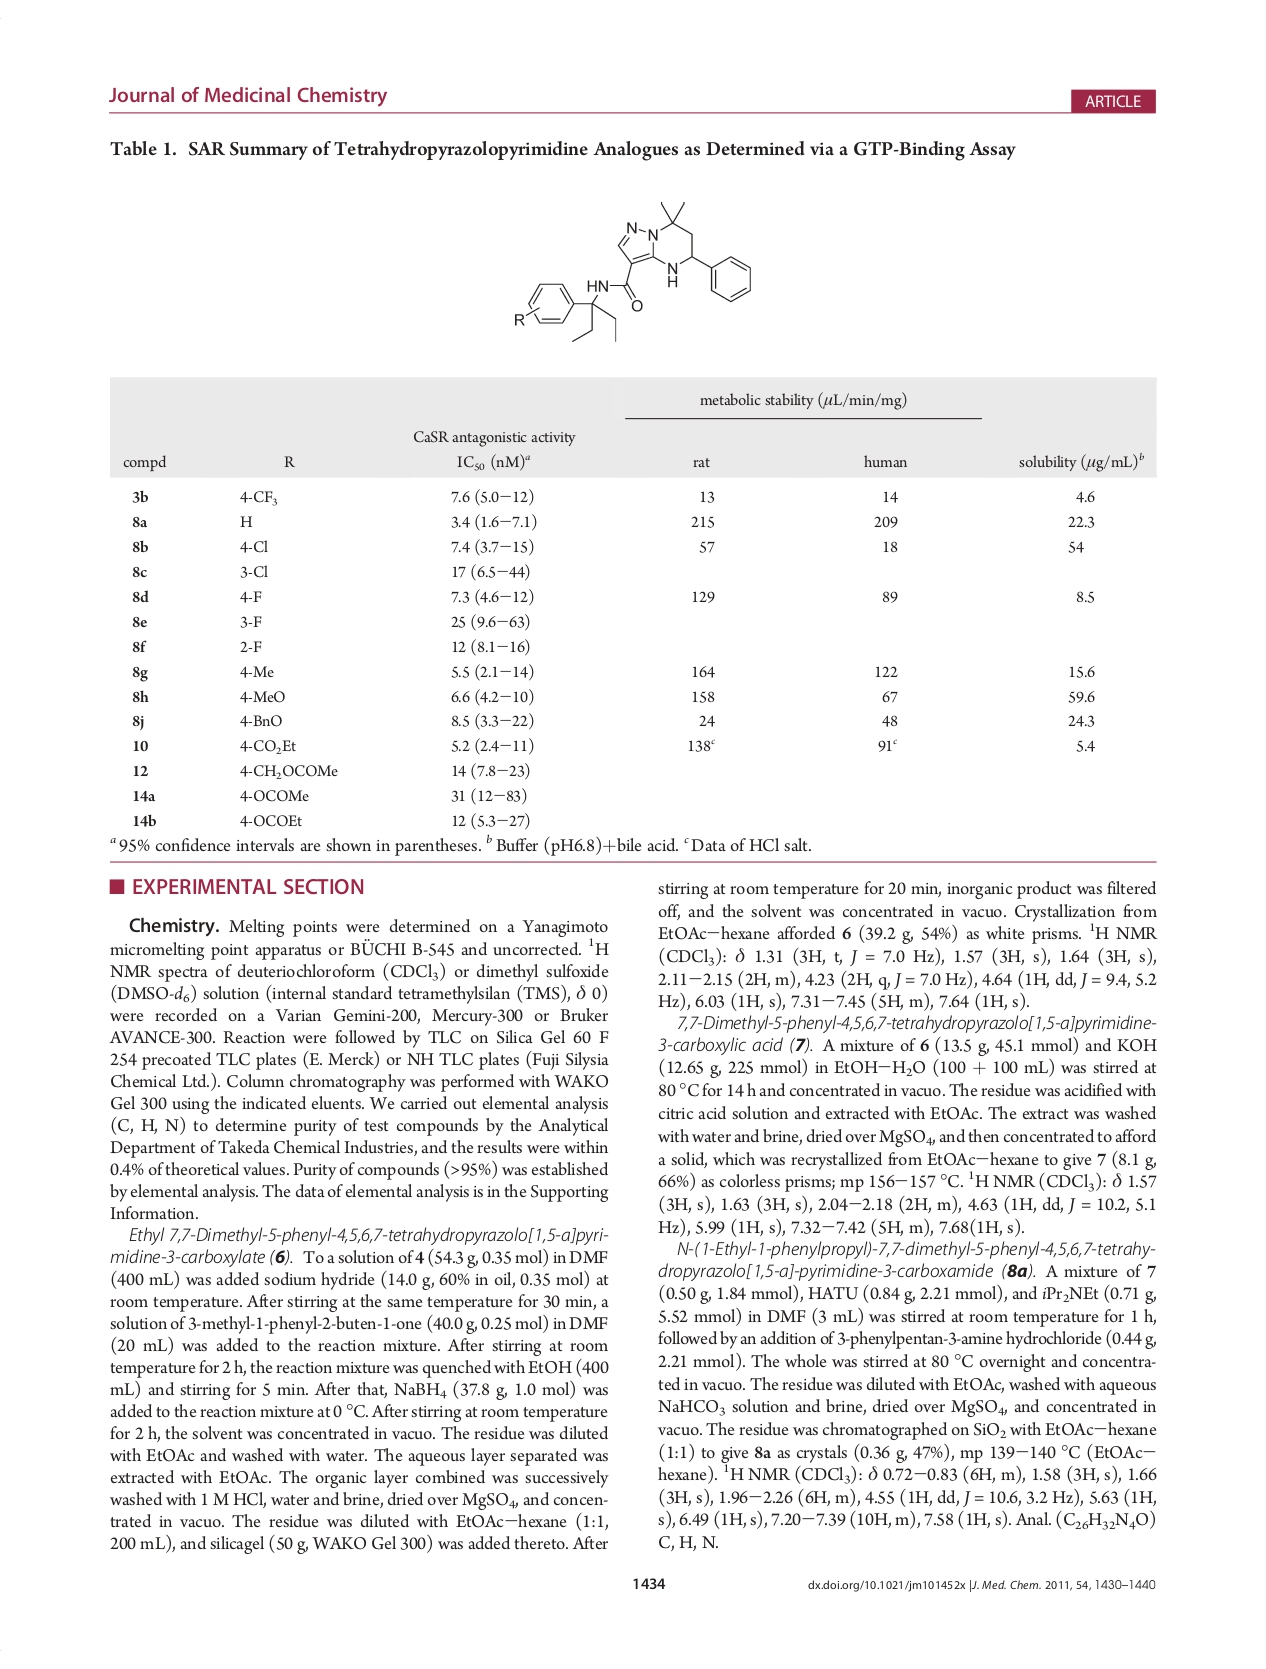exist_molecular: (507, 195, 755, 346)
